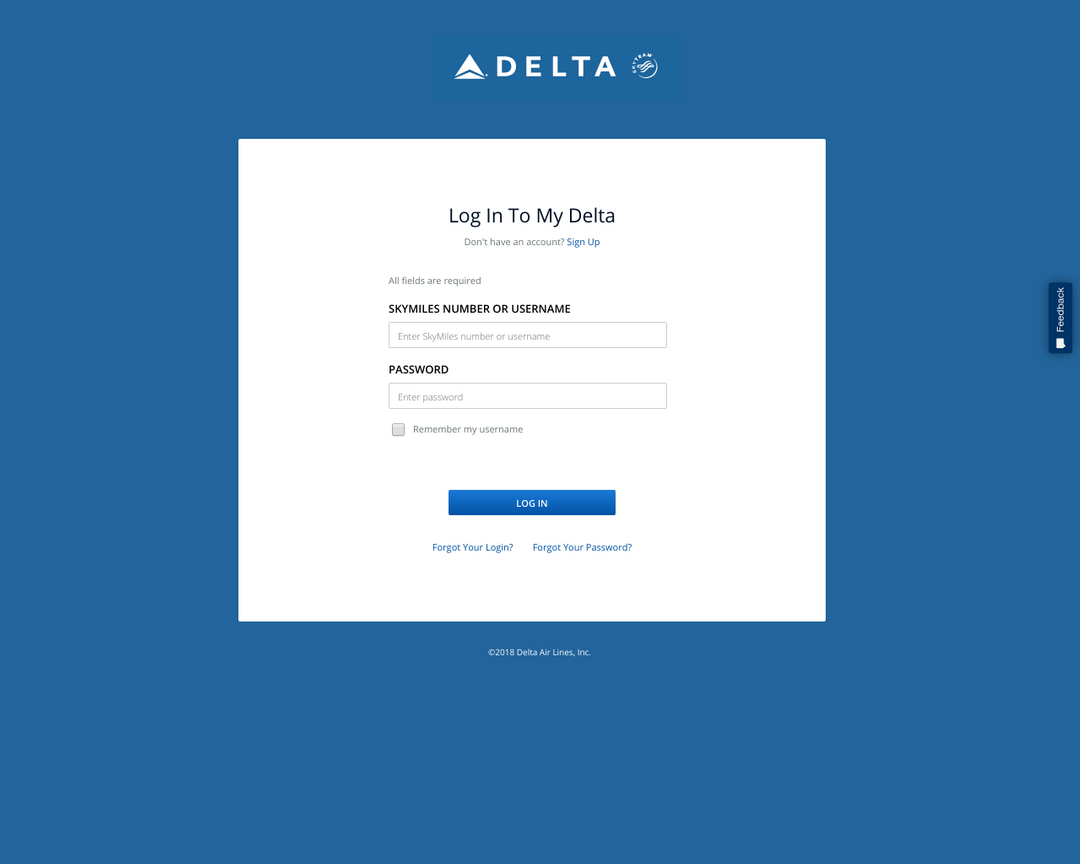Delta Airlines: (452, 48, 621, 87)
